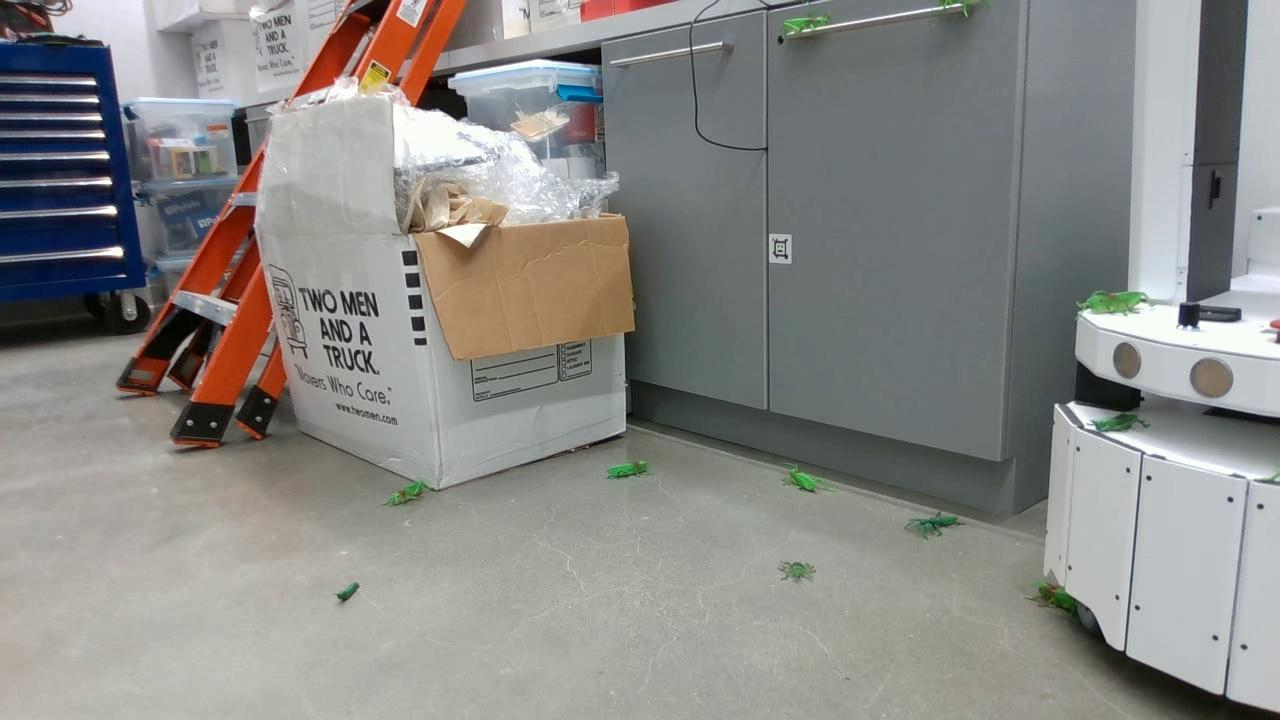grasshopper: (1077, 289, 1143, 315), (1027, 581, 1078, 613), (783, 468, 827, 497), (384, 482, 430, 508), (606, 462, 645, 482), (783, 14, 824, 33)
